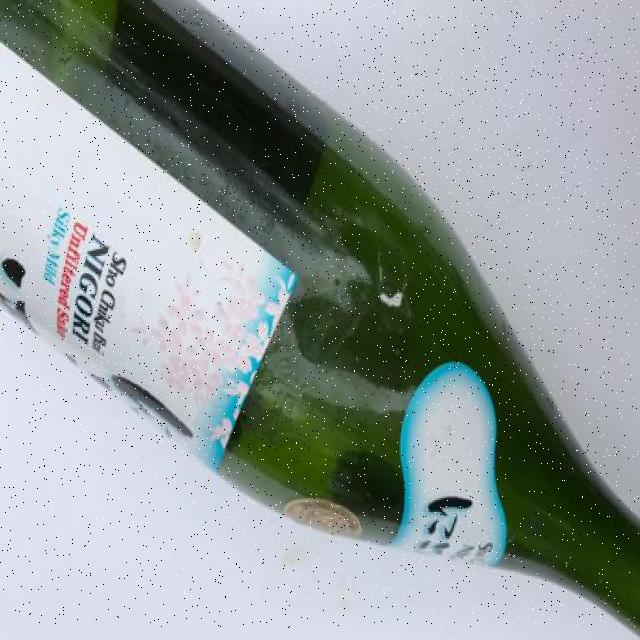glass: (1, 0, 640, 628)
